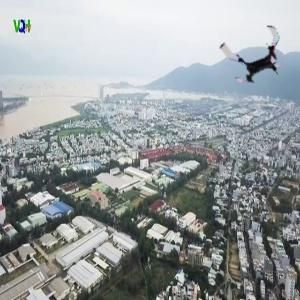drone: (224, 22, 291, 89)
